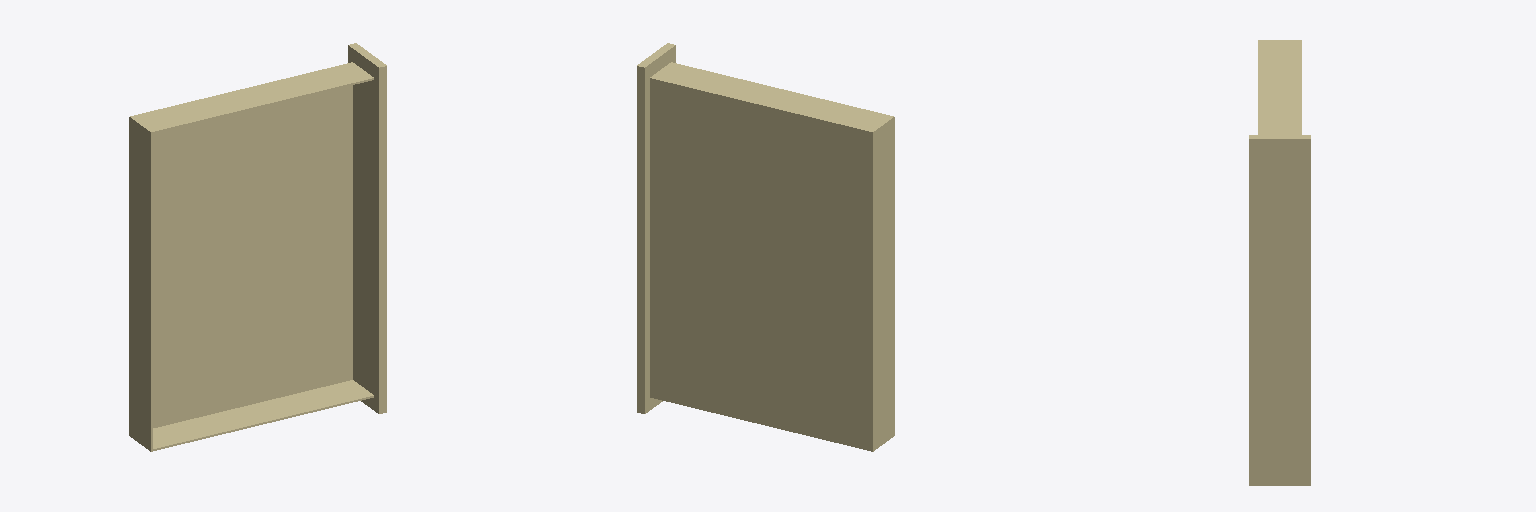
Rendered from drawer.obj.
The picture shows the model from 3 angles: view 1: azimuth 30°, elevation 25°; view 2: azimuth 150°, elevation 25°; view 3: azimuth 270°, elevation 25°; orthographic projection.
Visible parts, largest first — view 1: drawer; view 2: drawer; view 3: drawer.
Part boxes in pixels (left/top/right/bottom): drawer: left=129, top=43, right=386, bottom=451; drawer: left=637, top=43, right=894, bottom=451; drawer: left=1249, top=40, right=1310, bottom=485.
Size of the model in its own units: 0.5307 by 0.7588 by 0.1238.